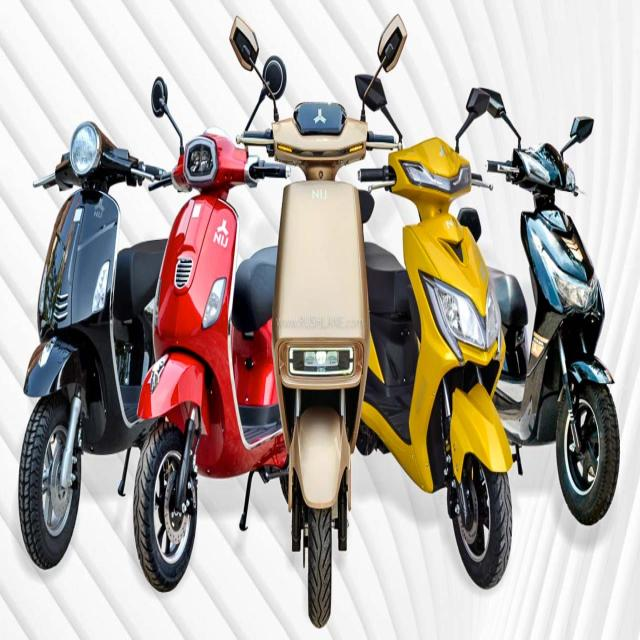motorcycle: (230, 16, 406, 627), (135, 78, 289, 590), (360, 138, 512, 586), (19, 122, 170, 569), (488, 118, 620, 523)
